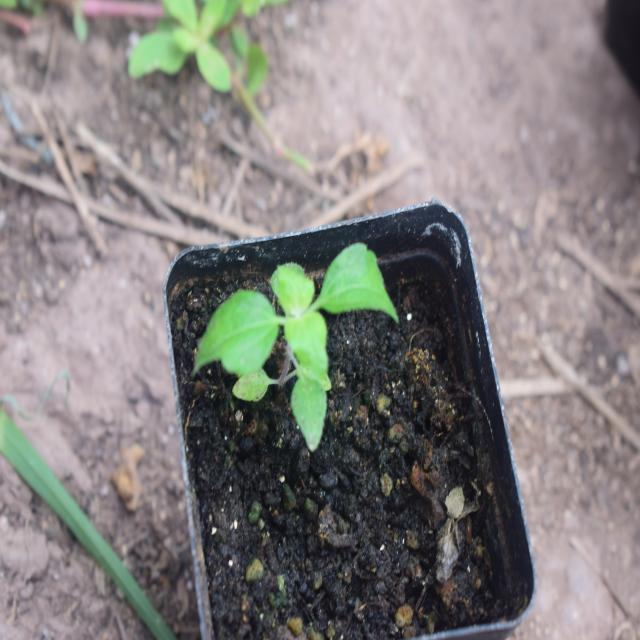billygoat_weed: (186, 236, 414, 447)
